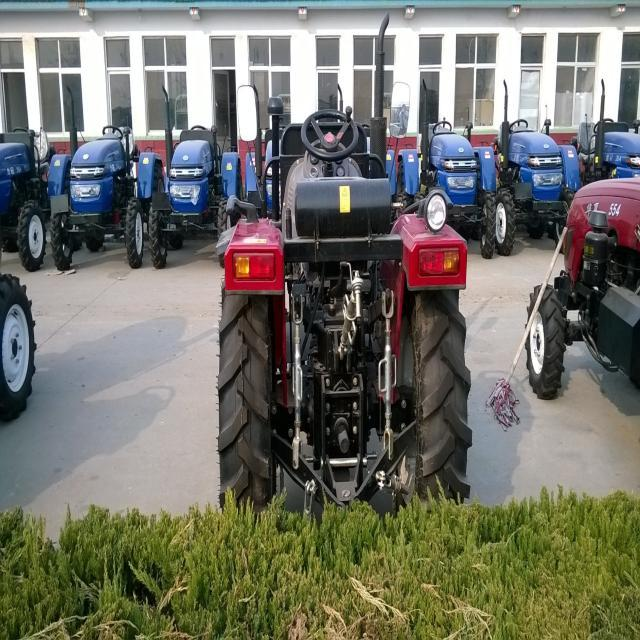Tratores - v5 YOLO V8L 2024-11-13: (204, 65, 477, 519), (525, 149, 640, 435), (493, 78, 584, 254), (148, 89, 236, 268), (413, 74, 495, 262), (46, 114, 147, 258), (581, 67, 640, 192), (0, 116, 44, 272)
